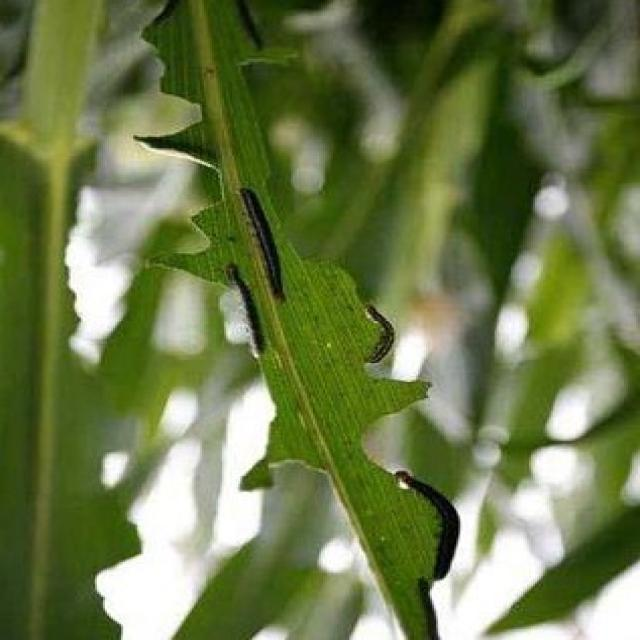army worm: (390, 465, 464, 588), (235, 183, 296, 309), (213, 266, 274, 363), (355, 306, 398, 374)
